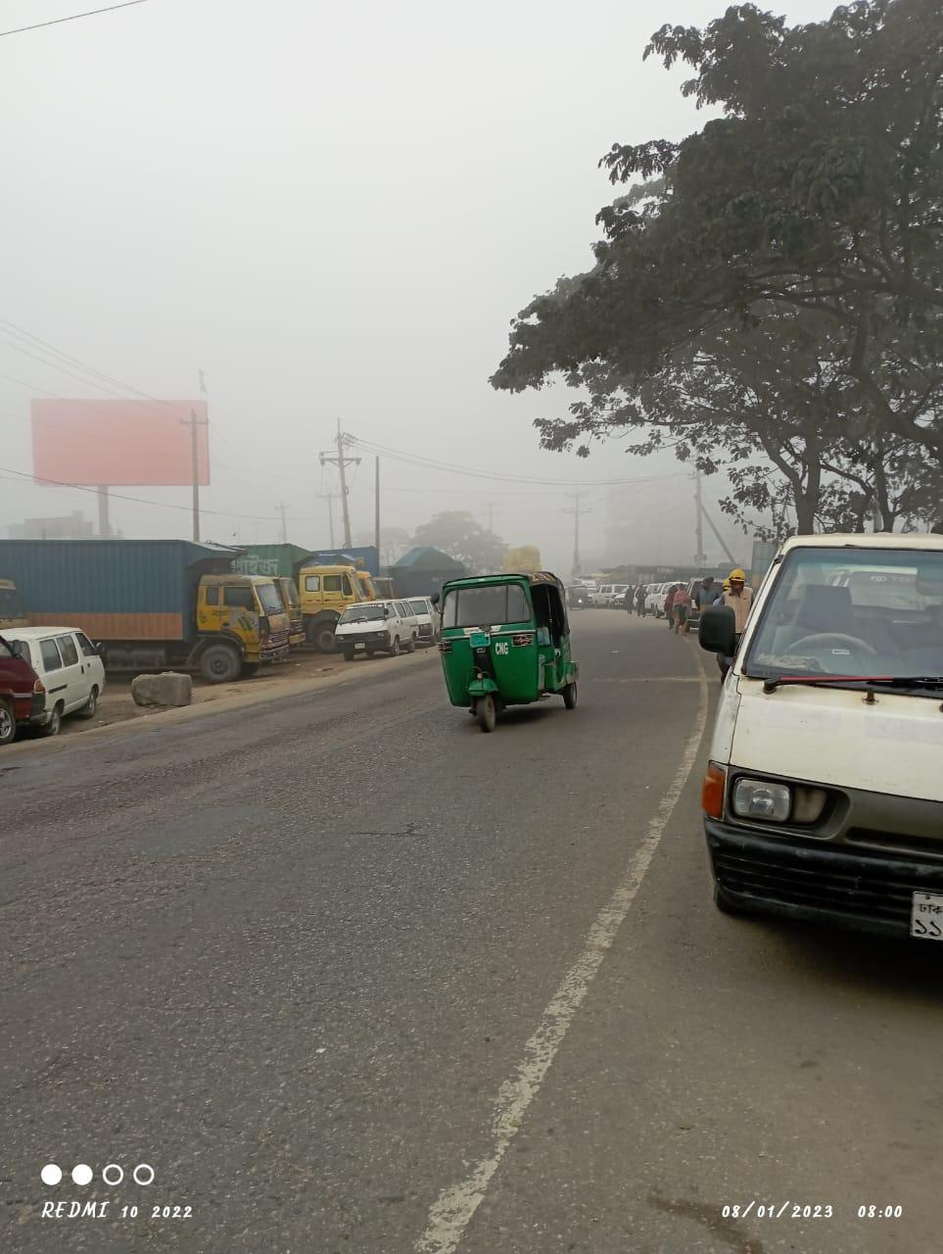Car: (702, 508, 943, 1002), (18, 614, 114, 725), (326, 592, 413, 654)
Truck: (5, 529, 295, 669)
